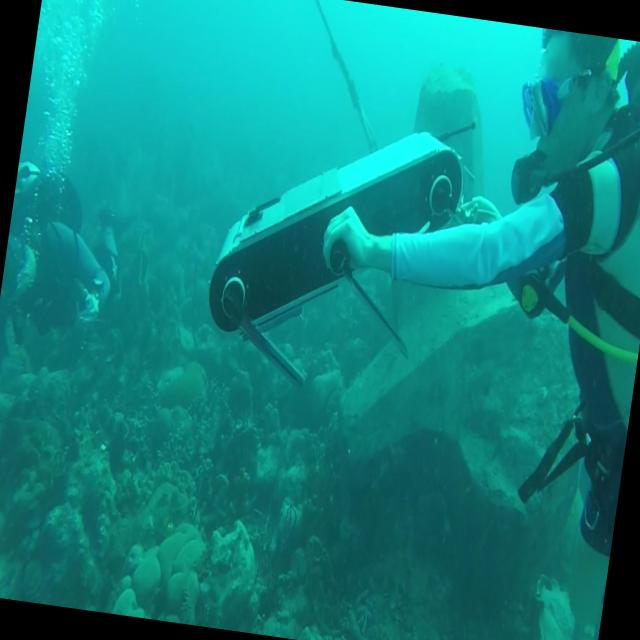human: (267, 2, 640, 640), (0, 148, 142, 365)
